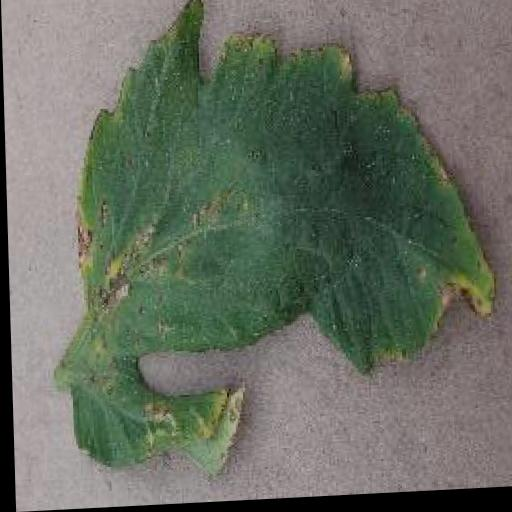Bacterial Spot: (51, 0, 506, 484)
